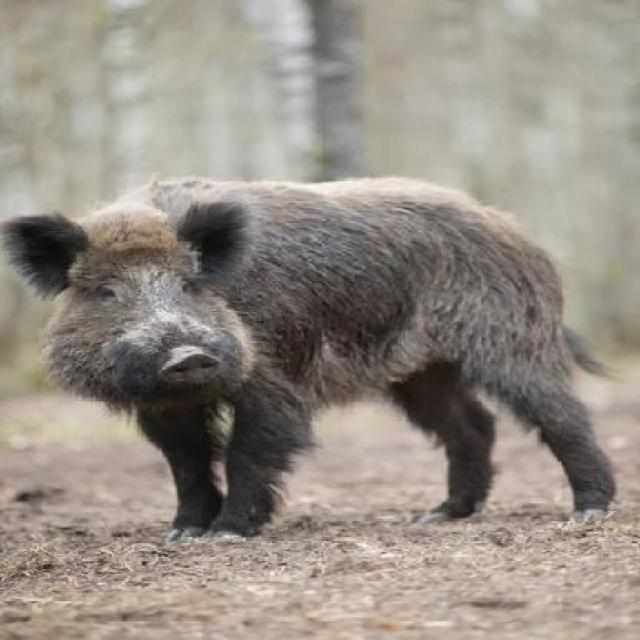wildboar: (0, 169, 631, 546)
